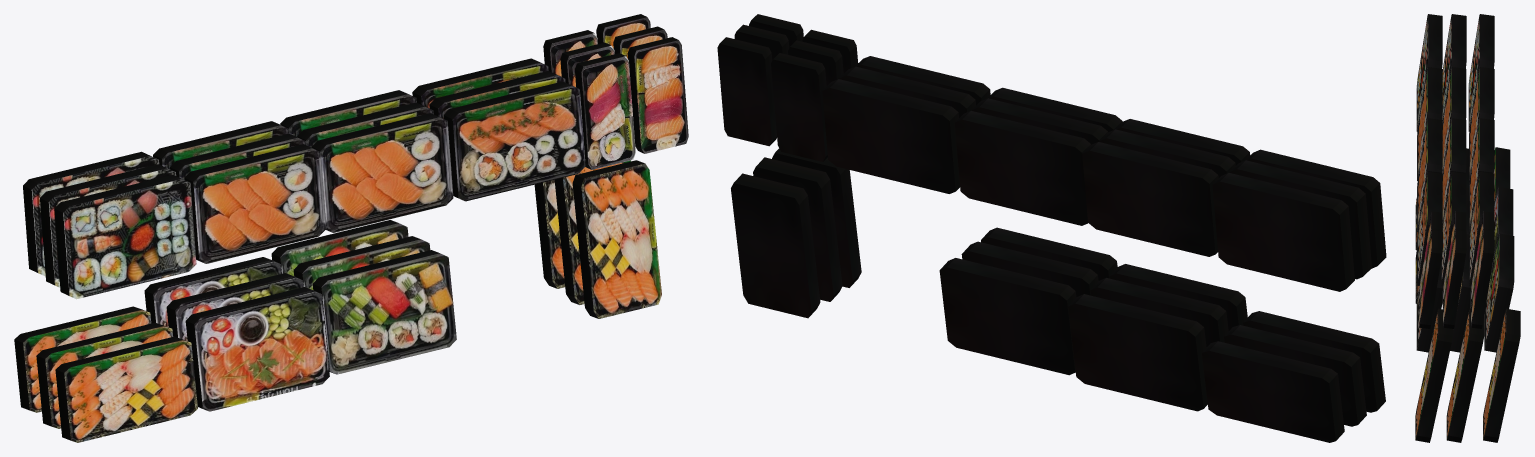
Rendered from supermarket_group_05_lev1.glb.
3 renders of one model, left to right at view 1: azimuth 30°, elevation 25°; view 2: azimuth 150°, elevation 25°; view 3: azimuth 270°, elevation 25°, orthographic. The views are drawn at different scales.
Visible parts, largest first — view 1: supermarket_group_05_lev1; view 2: supermarket_group_05_lev1; view 3: supermarket_group_05_lev1.
Boxes of the visible parts, left/top/right/bottom form: supermarket_group_05_lev1: left=14, top=14, right=688, bottom=442; supermarket_group_05_lev1: left=717, top=14, right=1386, bottom=442; supermarket_group_05_lev1: left=1415, top=14, right=1520, bottom=442.
Size of the model in its own units: 2.54 by 0.9866 by 0.4531.
Materials: 1 (1 with a texture image).
